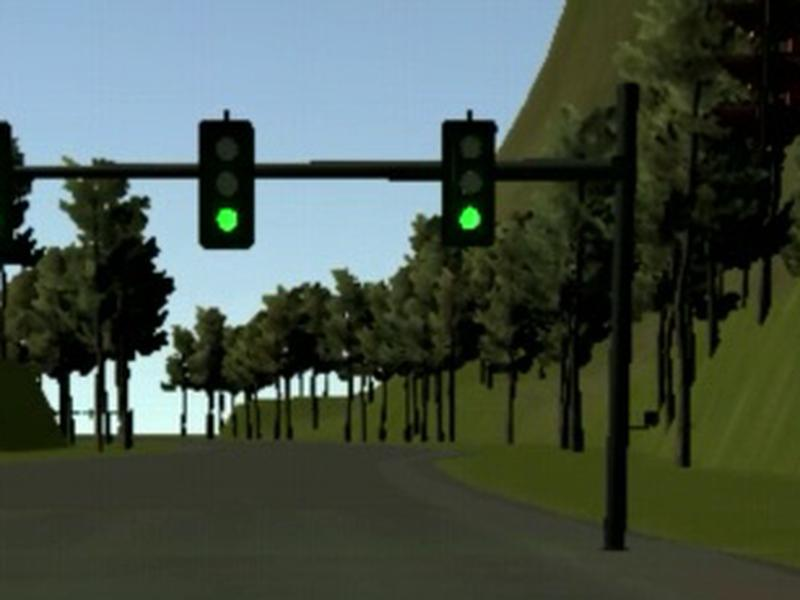Green: (197, 119, 256, 248), (442, 119, 495, 247)
